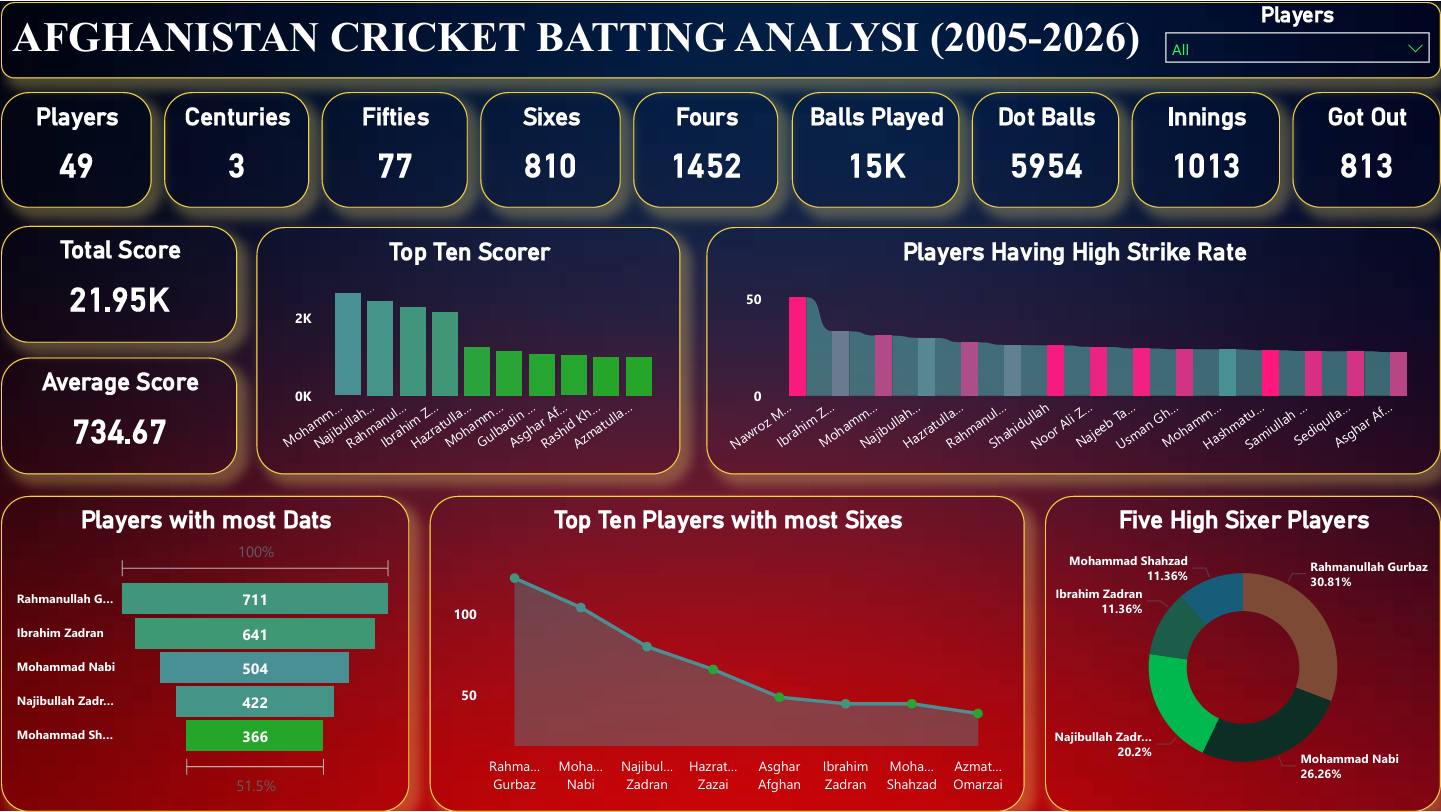

Layout of this report page (visuals, bound fields, positions):
{"tool":"powerbi","page":{"name":"Page 1","canvas":[1280,720],"ordinal":0},"visuals":[{"type":"card","title":"Players ","fields":{"Values":["CountNonNull(leadersdata.Player)"]},"box":[0,79.6,134.1,103],"z":0},{"type":"textbox","box":[0,0,1280,67.6],"z":1000},{"type":"card","title":"Centuries ","fields":{"Values":["Sum(leadersdata.100)"]},"box":[145.2,79.6,129.1,103],"z":2000},{"type":"card","title":"Fifties ","fields":{"Values":["Sum(leadersdata.50)"]},"box":[285.5,79.6,129.1,103],"z":3000},{"type":"card","title":"Sixes ","fields":{"Values":["Sum(leadersdata.6s)"]},"box":[425.8,79.6,125.4,103],"z":4000},{"type":"card","title":"Fours ","fields":{"Values":["Sum(leadersdata.4s)"]},"box":[562.3,79.6,129.1,103],"z":5000},{"type":"card","title":"Dot Balls","fields":{"Values":["Sum(leadersdata.Dots)"]},"box":[862.7,79.6,131.6,103],"z":6000},{"type":"card","title":"Innings ","fields":{"Values":["Sum(leadersdata.I)"]},"box":[1005.4,79.6,131.6,103],"z":7000},{"type":"card","title":"Balls Played","fields":{"Values":["Sum(leadersdata.B)"]},"box":[702.6,79.6,149,103],"z":8000},{"type":"card","title":"Got Out","fields":{"Values":["Sum(leadersdata.Outs)"]},"box":[1148.2,79.6,131.6,103],"z":9000},{"type":"card","title":"Total Score","fields":{"Values":["Sum(leadersdata.Total Score)"]},"box":[0,199,209.9,103.8],"z":10000},{"type":"card","title":"Average Score","fields":{"Values":["Sum(leadersdata.Avg)"]},"box":[0,316,209.9,103.8],"z":11000},{"type":"slicer","title":"Players","fields":{"Values":["leadersdata.Player"]},"box":[1025.5,0,254.6,67.6],"z":12000},{"type":"columnChart","title":"Top Ten Scorer ","fields":{"Category":["leadersdata.Player"],"Y":["Sum(leadersdata.Total Score)"]},"box":[226.6,199.6,377.7,220.9],"z":13000},{"type":"stackedAreaChart","title":"Top Ten Players with most Sixes","fields":{"Category":["leadersdata.Player"],"Y":["Sum(leadersdata.6s)"]},"box":[381.3,439,528.8,280.8],"z":14000},{"type":"ribbonChart","title":"Players Having High Strike Rate","fields":{"Category":["leadersdata.Player"],"Y":["Sum(leadersdata.Avg)"]},"box":[627.2,199.6,652.8,220.9],"z":15000},{"type":"donutChart","title":"Five High Sixer Players","fields":{"Category":["leadersdata.Player"],"Y":["Sum(leadersdata.6s)"]},"box":[927.9,439,352.1,280.8],"z":16000},{"type":"funnel","title":"Players with most Dats","fields":{"Category":["leadersdata.Player"],"Y":["Sum(leadersdata.Dots)"]},"box":[0,439.2,363.5,280.8],"z":16001}]}

Visuals, with their boxes in screenshot pixels (x1, y1, x2, y2), scaled from the page's 1280x720 canvas onto the 1441x812 screenshot:
"Players " card: select_region(0, 90, 151, 206)
textbox: select_region(0, 0, 1440, 76)
"Centuries " card: select_region(163, 90, 309, 206)
"Fifties " card: select_region(321, 90, 467, 206)
"Sixes " card: select_region(479, 90, 621, 206)
"Fours " card: select_region(633, 90, 778, 206)
"Dot Balls" card: select_region(971, 90, 1119, 206)
"Innings " card: select_region(1132, 90, 1280, 206)
"Balls Played" card: select_region(791, 90, 959, 206)
"Got Out" card: select_region(1293, 90, 1440, 206)
"Total Score" card: select_region(0, 224, 236, 341)
"Average Score" card: select_region(0, 356, 236, 473)
"Players" slicer: select_region(1154, 0, 1440, 76)
"Top Ten Scorer " columnChart: select_region(255, 225, 680, 474)
"Top Ten Players with most Sixes" stackedAreaChart: select_region(429, 495, 1025, 811)
"Players Having High Strike Rate" ribbonChart: select_region(706, 225, 1440, 474)
"Five High Sixer Players" donutChart: select_region(1045, 495, 1440, 811)
"Players with most Dats" funnel: select_region(0, 495, 409, 811)
